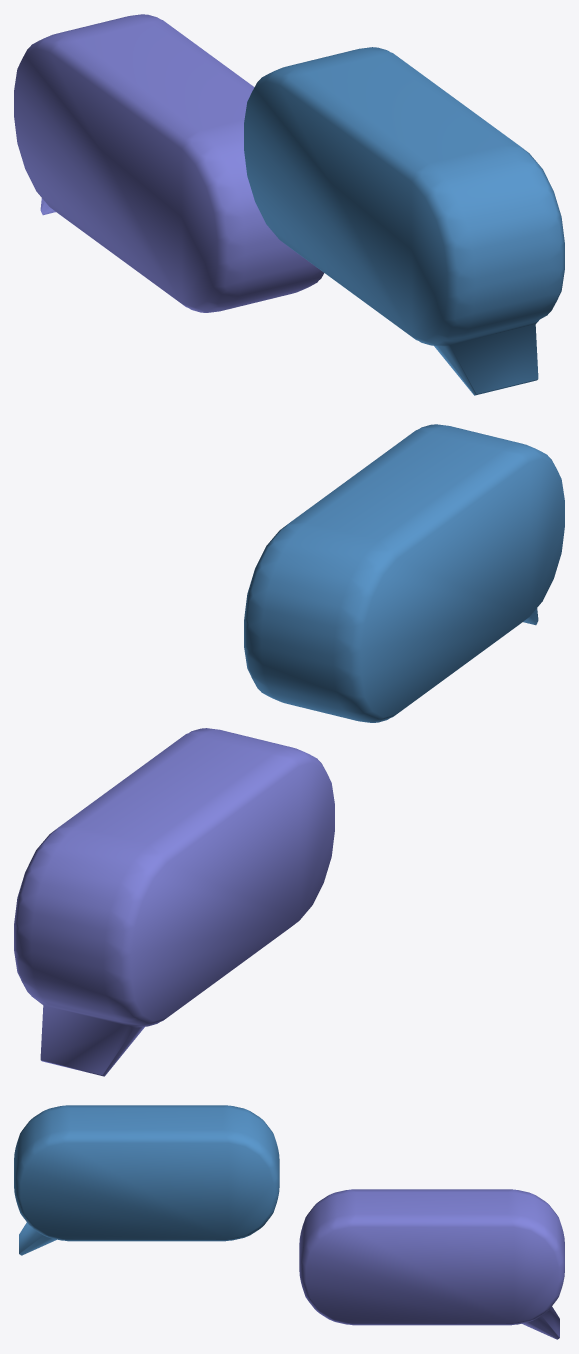
File: 对话框.fbx
3 views of the same model, one above another, from view 1: azimuth 30°, elevation 25°; view 2: azimuth 150°, elevation 25°; view 3: azimuth 270°, elevation 25° (orthographic). The views are drawn at different scales.
Parts seen in each view (by area): view 1: 立方体.007, 立方体.002; view 2: 立方体.002, 立方体.007; view 3: 立方体.007, 立方体.002.
Boxes of the visible parts, x1,y1,x2,y2 form: 立方体.007: [244, 47, 564, 395]; 立方体.002: [14, 14, 323, 312]; 立方体.002: [14, 728, 334, 1076]; 立方体.007: [244, 424, 564, 722]; 立方体.007: [14, 1105, 279, 1255]; 立方体.002: [299, 1189, 564, 1339].
Bounding box in the file's own units: 2.88 × 7.96 × 18.82.
